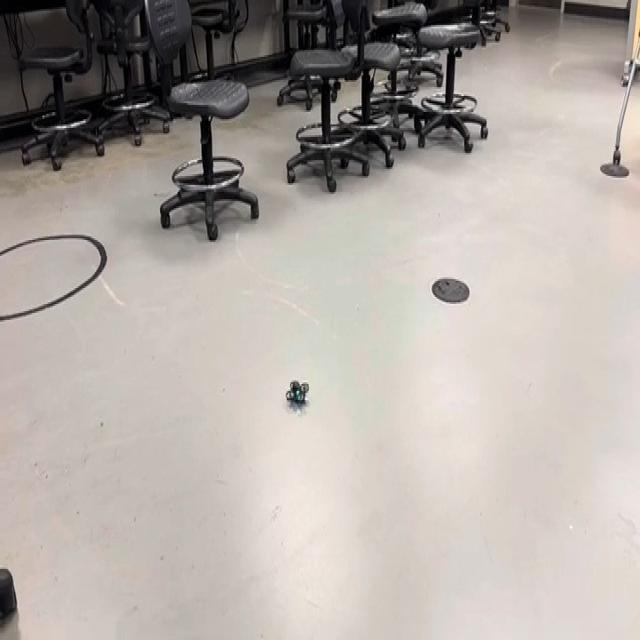drone: (282, 370, 318, 418)
